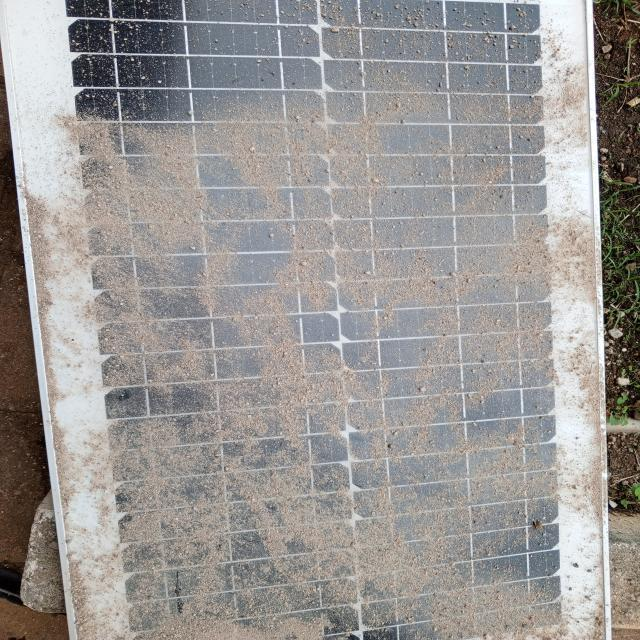Anomaly Solar Panel: (46, 6, 574, 637)
Surface Contaminant: (84, 86, 582, 639)
